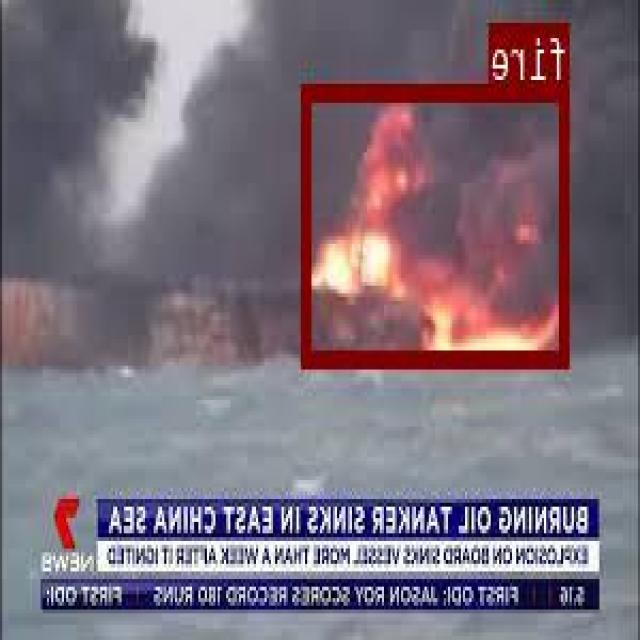fire: (304, 83, 570, 363)
